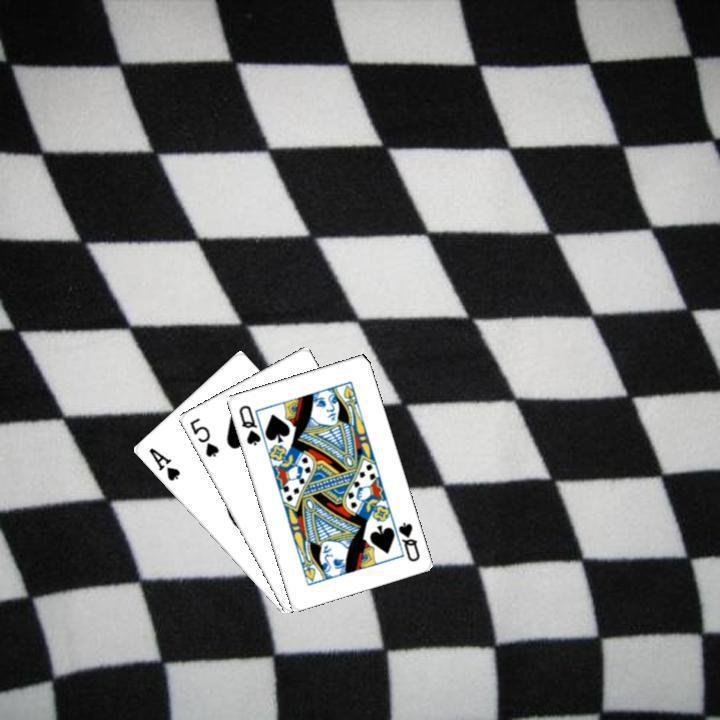5: (185, 413, 221, 459)
A: (144, 443, 182, 483)
Q: (234, 400, 262, 447), (393, 518, 422, 563)
